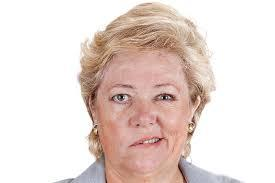strokeEyeSevere: (104, 82, 180, 107)
strokeMouthSevere: (125, 132, 169, 151)
